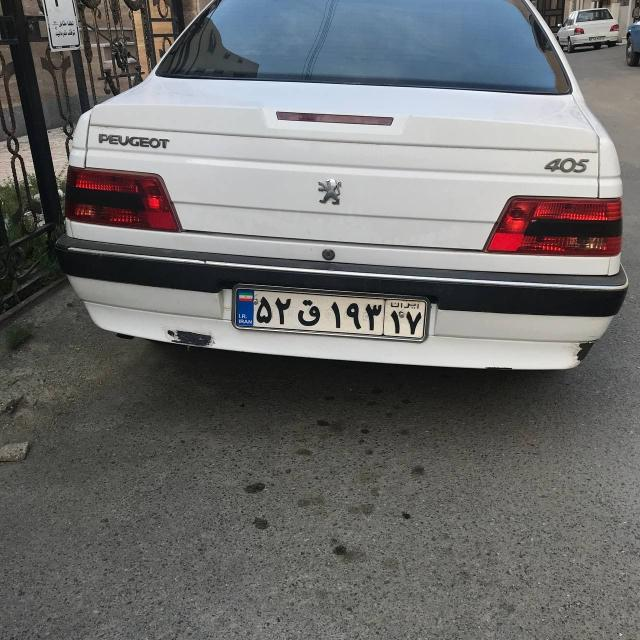Plates: (234, 288, 426, 339)
